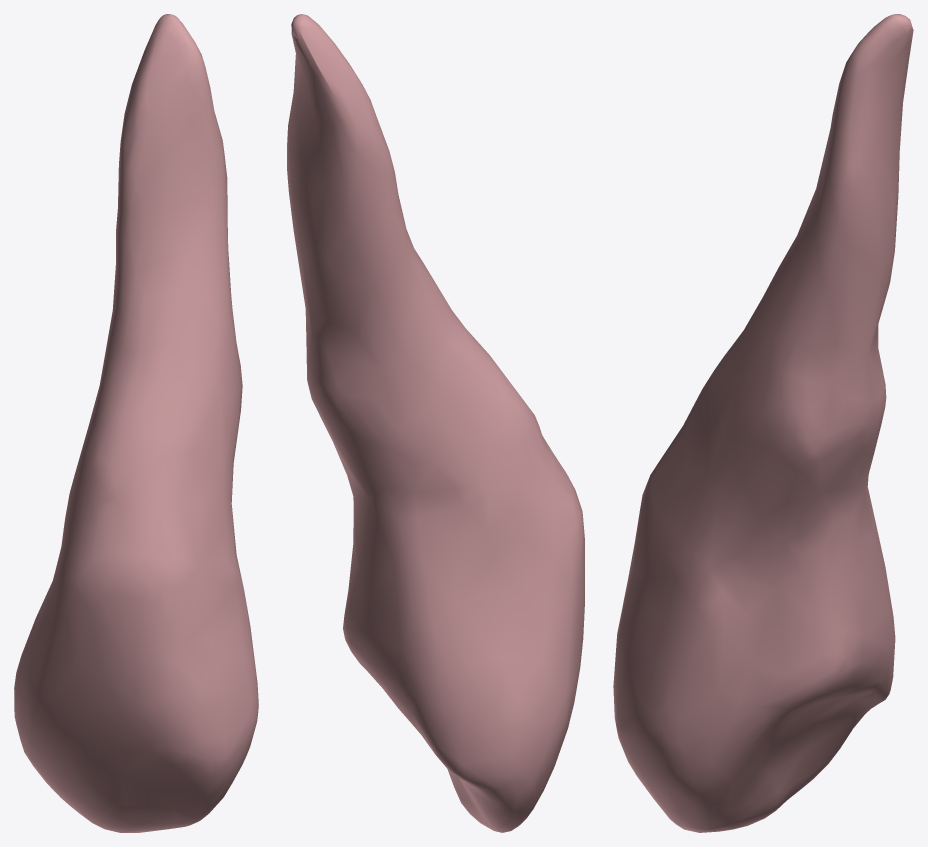
File: fma55798_mm824m.glb
The picture shows the model from 3 angles, left to right: view 1: azimuth 30°, elevation 25°; view 2: azimuth 150°, elevation 25°; view 3: azimuth 270°, elevation 25°; orthographic projection. The views are drawn at different scales.
Visible parts, largest first — view 1: FMA55798_MM824M; view 2: FMA55798_MM824M; view 3: FMA55798_MM824M.
Boxes of the visible parts, x1=… form: FMA55798_MM824M: x1=14, y1=14, x2=258, y2=832; FMA55798_MM824M: x1=287, y1=14, x2=584, y2=832; FMA55798_MM824M: x1=613, y1=14, x2=913, y2=832.
Bounding box in the file's own units: 0.00841 × 0.0272 × 0.00851.
